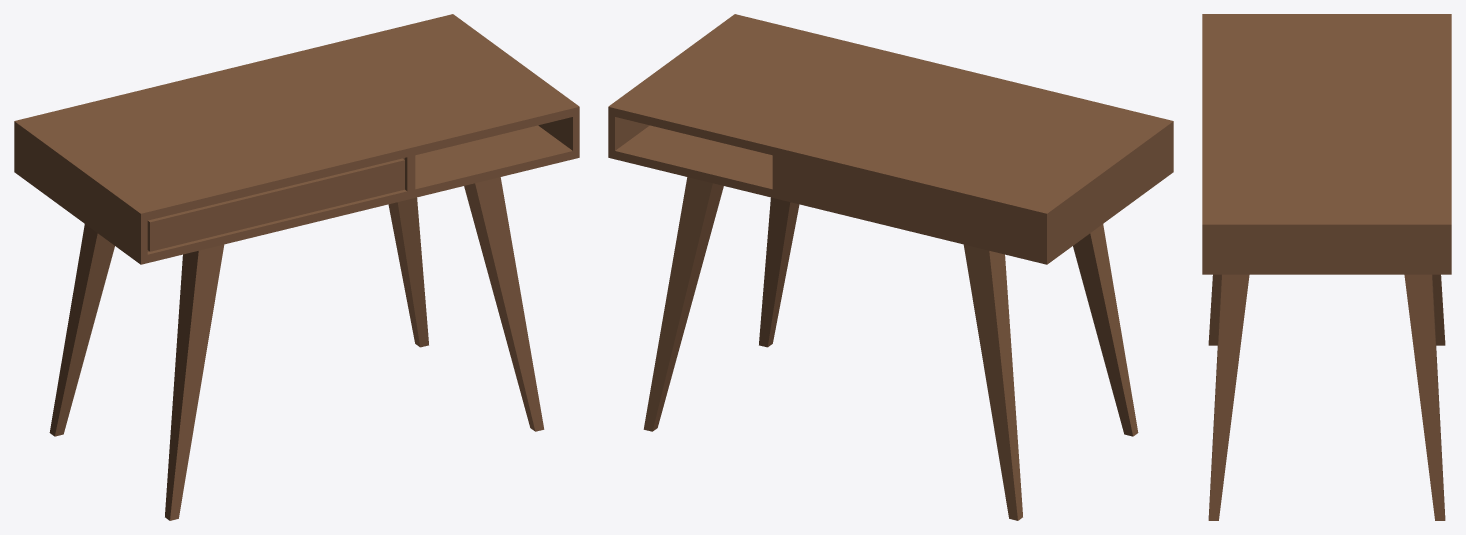
Rendered from desk.glb.
3 views of the same model, side by side, from view 1: azimuth 30°, elevation 25°; view 2: azimuth 150°, elevation 25°; view 3: azimuth 270°, elevation 25° (orthographic).
Parts seen in each view (by area): view 1: desk4; view 2: desk4; view 3: desk4.
Part boxes in pixels (box(x1,y1,x2,y2)): desk4: box(14, 14, 579, 520); desk4: box(608, 14, 1173, 520); desk4: box(1202, 14, 1451, 520).
Bounding box in the file's own units: 110 × 76 × 55.
